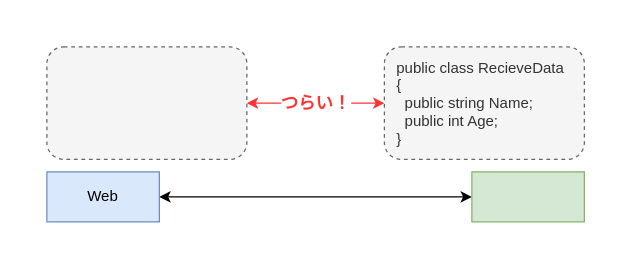
Some shapes in this 630 by 280 pixel diagram are drawn without their labels. Each missing label, with the centre of its shape:
"Client" goes at point 527,196.
"public class SendData { public string Name; public int Age; }" goes at point 146,102.
